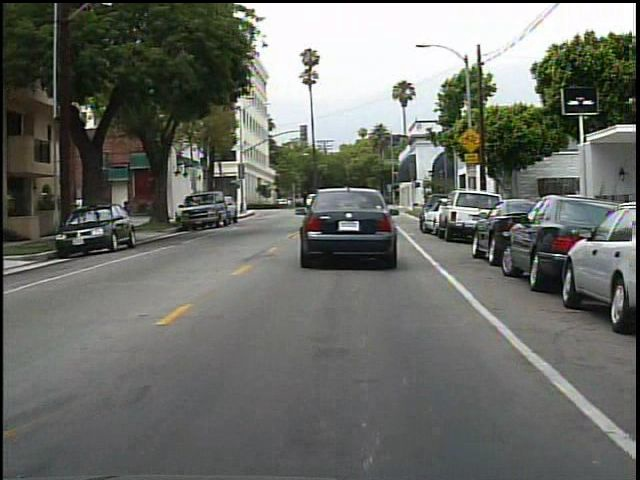person: (118, 196, 138, 241)
